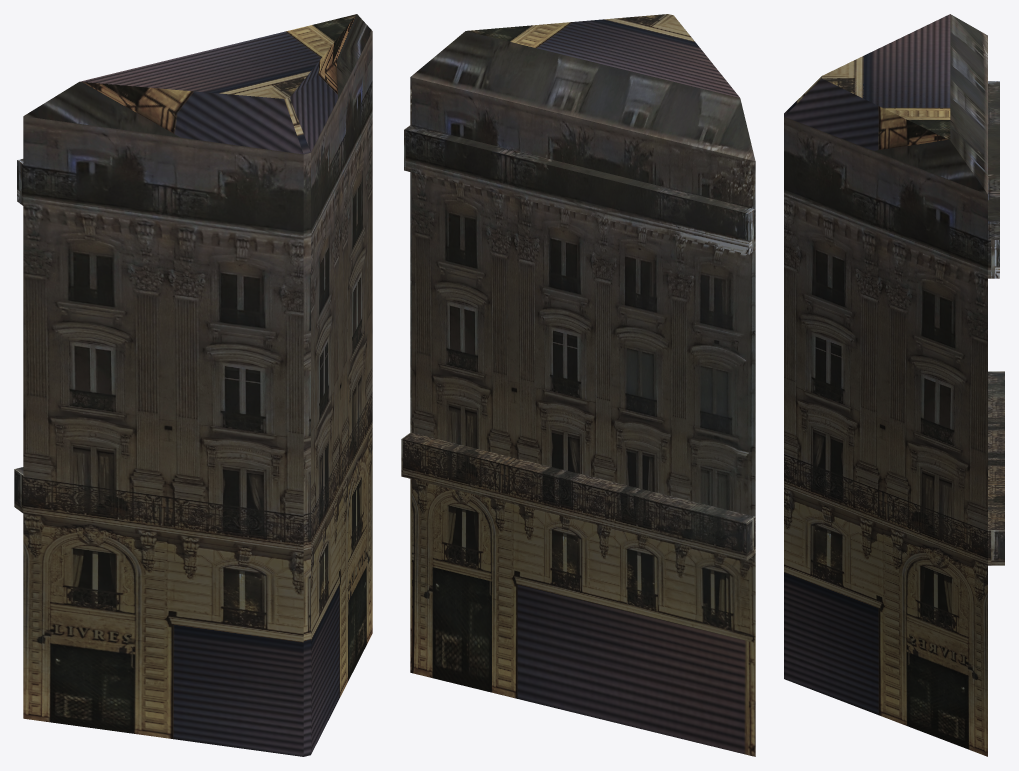
The model's file is Generic1.fbx.
The picture shows the model from 3 angles, left to right: view 1: azimuth 30°, elevation 25°; view 2: azimuth 150°, elevation 25°; view 3: azimuth 270°, elevation 25°; orthographic projection. The views are drawn at different scales.
Visible parts, largest first — view 1: Generic1; view 2: Generic1; view 3: Generic1.
Part boxes in pixels (<box>): Generic1: <box>14,14,372,756</box>; Generic1: <box>401,14,755,756</box>; Generic1: <box>784,14,1004,756</box>.
Bounding box in the file's own units: 12.32 × 7.23 × 21.68.
1 material, 1 textured.
